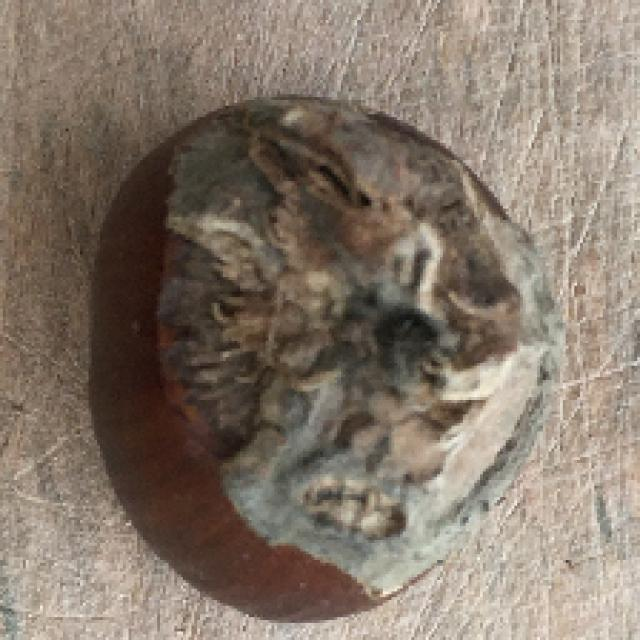damagedHazelnut: (93, 92, 557, 620)
